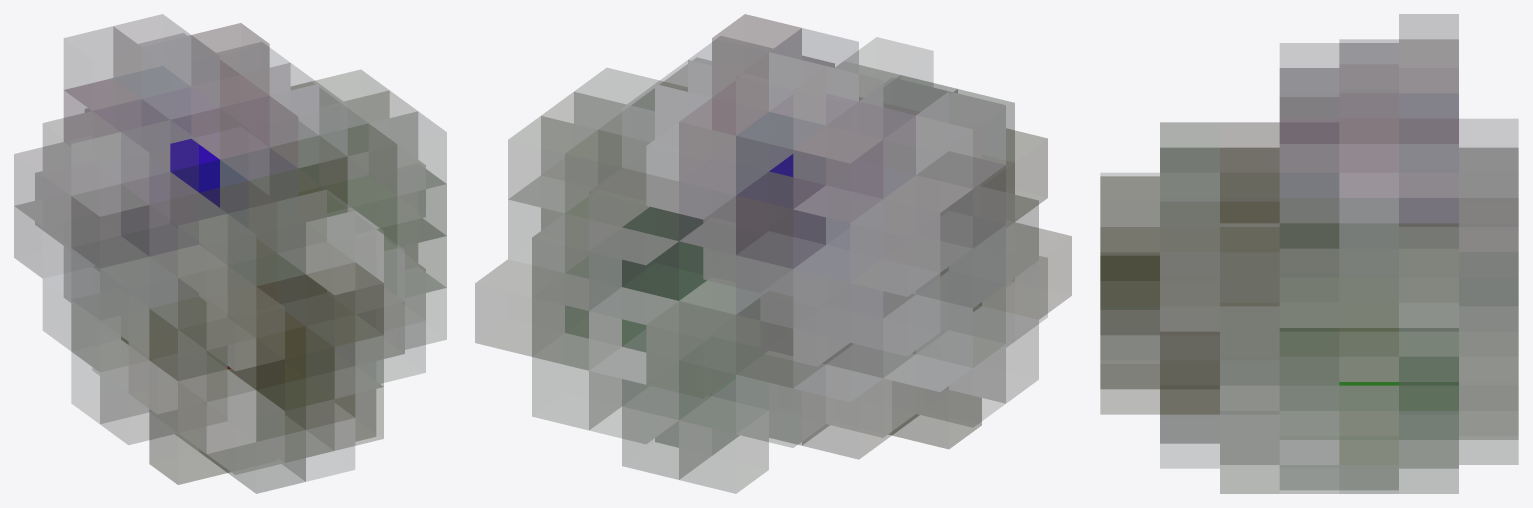
Rendered from iter_5.obj.
The picture shows the model from 3 angles, left to right: view 1: azimuth 30°, elevation 25°; view 2: azimuth 150°, elevation 25°; view 3: azimuth 270°, elevation 25°; orthographic projection. The views are drawn at different scales.
Visible parts, largest first — view 1: iter_5; view 2: iter_5; view 3: iter_5.
Part boxes in pixels (x1,y1,x2,y2): iter_5: (14,14,446,493); iter_5: (475,14,1071,493); iter_5: (1100,14,1518,493).
Bounding box in the file's own units: 0.7 × 0.7 × 0.7.
